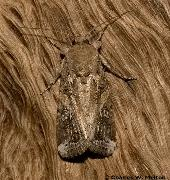army worm adult: (18, 8, 140, 169)
